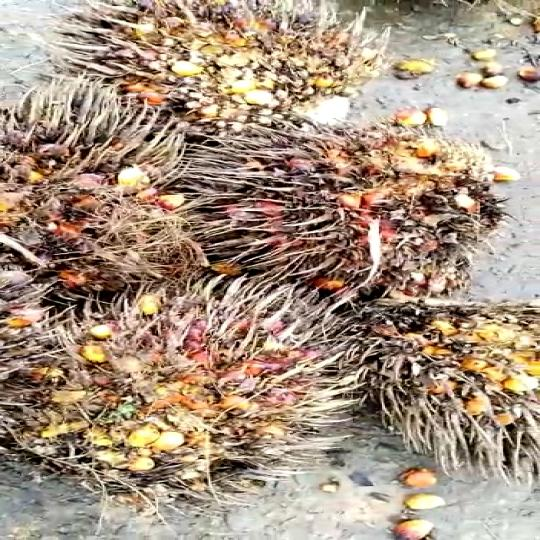terlalu masak: (0, 286, 380, 505), (153, 110, 520, 300), (68, 0, 412, 124), (346, 295, 540, 472)
